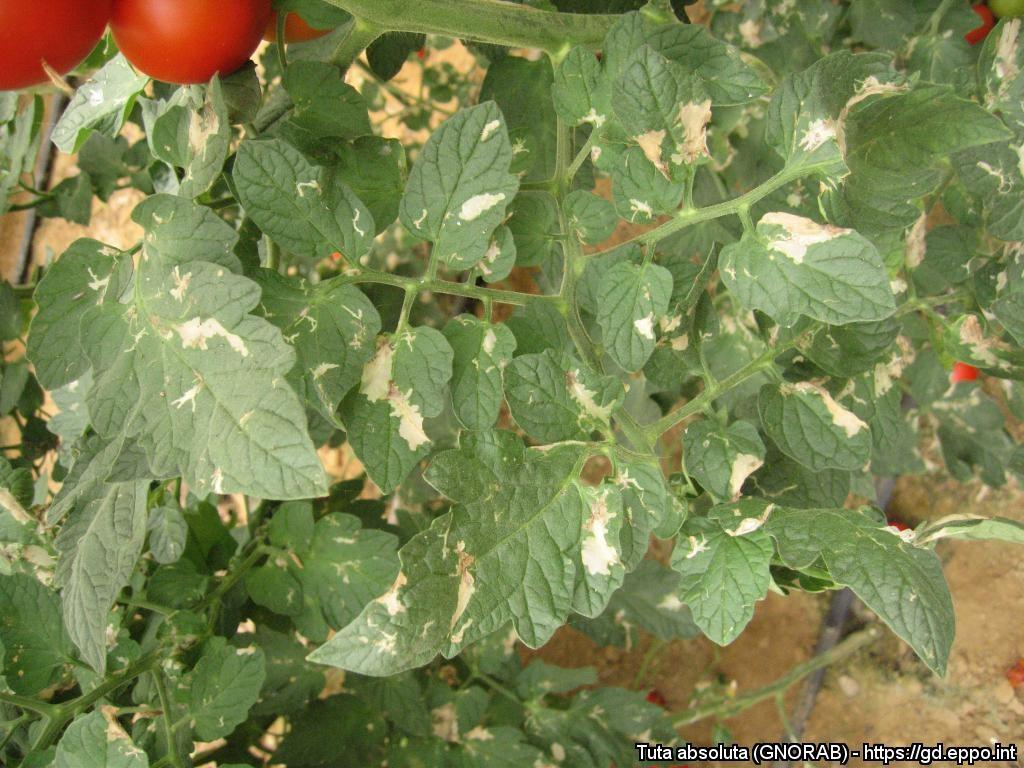Leaf_Miner: (19, 191, 335, 503), (306, 427, 667, 680), (708, 213, 903, 339), (764, 41, 913, 190), (342, 314, 457, 496), (403, 96, 519, 266), (607, 41, 717, 181), (752, 374, 880, 486), (594, 257, 675, 382)
